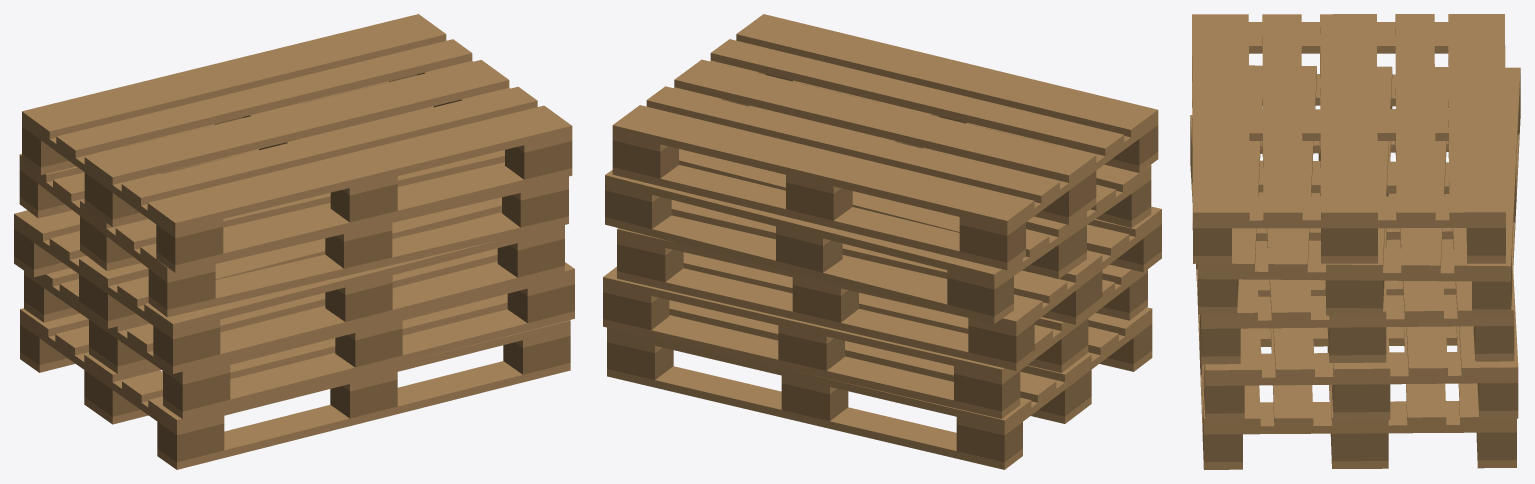
Rendered from pallet_stack_empty.glb.
3 views of the same model, side by side, from view 1: azimuth 30°, elevation 25°; view 2: azimuth 150°, elevation 25°; view 3: azimuth 270°, elevation 25° (orthographic). The views are drawn at different scales.
Parts seen in each view (by area): view 1: PalletStackEmpty; view 2: PalletStackEmpty; view 3: PalletStackEmpty.
Part boxes in pixels (bbox=[...]): PalletStackEmpty: bbox=[14, 14, 574, 469]; PalletStackEmpty: bbox=[603, 14, 1161, 469]; PalletStackEmpty: bbox=[1190, 14, 1520, 469].
Bounding box in the file's own units: 1.25 × 0.72 × 0.8433.
